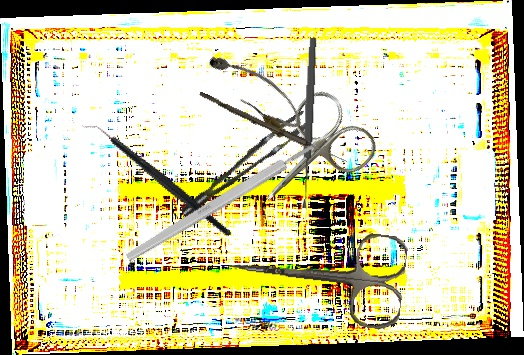Cannula: (201, 39, 310, 143)
Chopper: (81, 87, 232, 272)
Iris Scissors: (234, 82, 385, 233), (224, 216, 410, 332)
Scalpel Handle: (124, 139, 319, 264)
Surgical Spoon: (197, 91, 349, 165), (299, 37, 318, 209)
Tissue Forceps: (169, 109, 320, 218)
